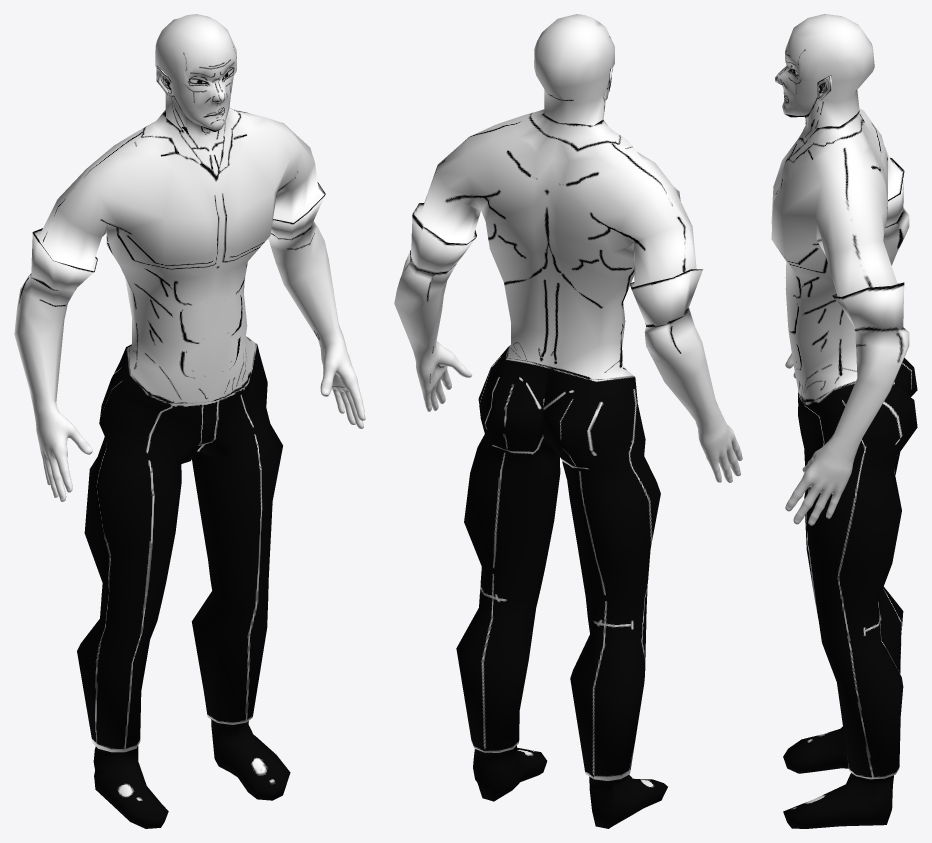
File: Enemy.fbx
The picture shows the model from 3 angles, left to right: view 1: azimuth 30°, elevation 25°; view 2: azimuth 150°, elevation 25°; view 3: azimuth 270°, elevation 25°; orthographic projection.
Visible parts, largest first — view 1: Enemy; view 2: Enemy; view 3: Enemy.
Boxes of the visible parts, x1,y1,x2,y2 form: Enemy: [14, 14, 365, 828]; Enemy: [394, 14, 742, 828]; Enemy: [771, 14, 917, 828].
Bounding box in the file's own units: 82.07 × 199 × 33.92.
1 material, 1 textured.
